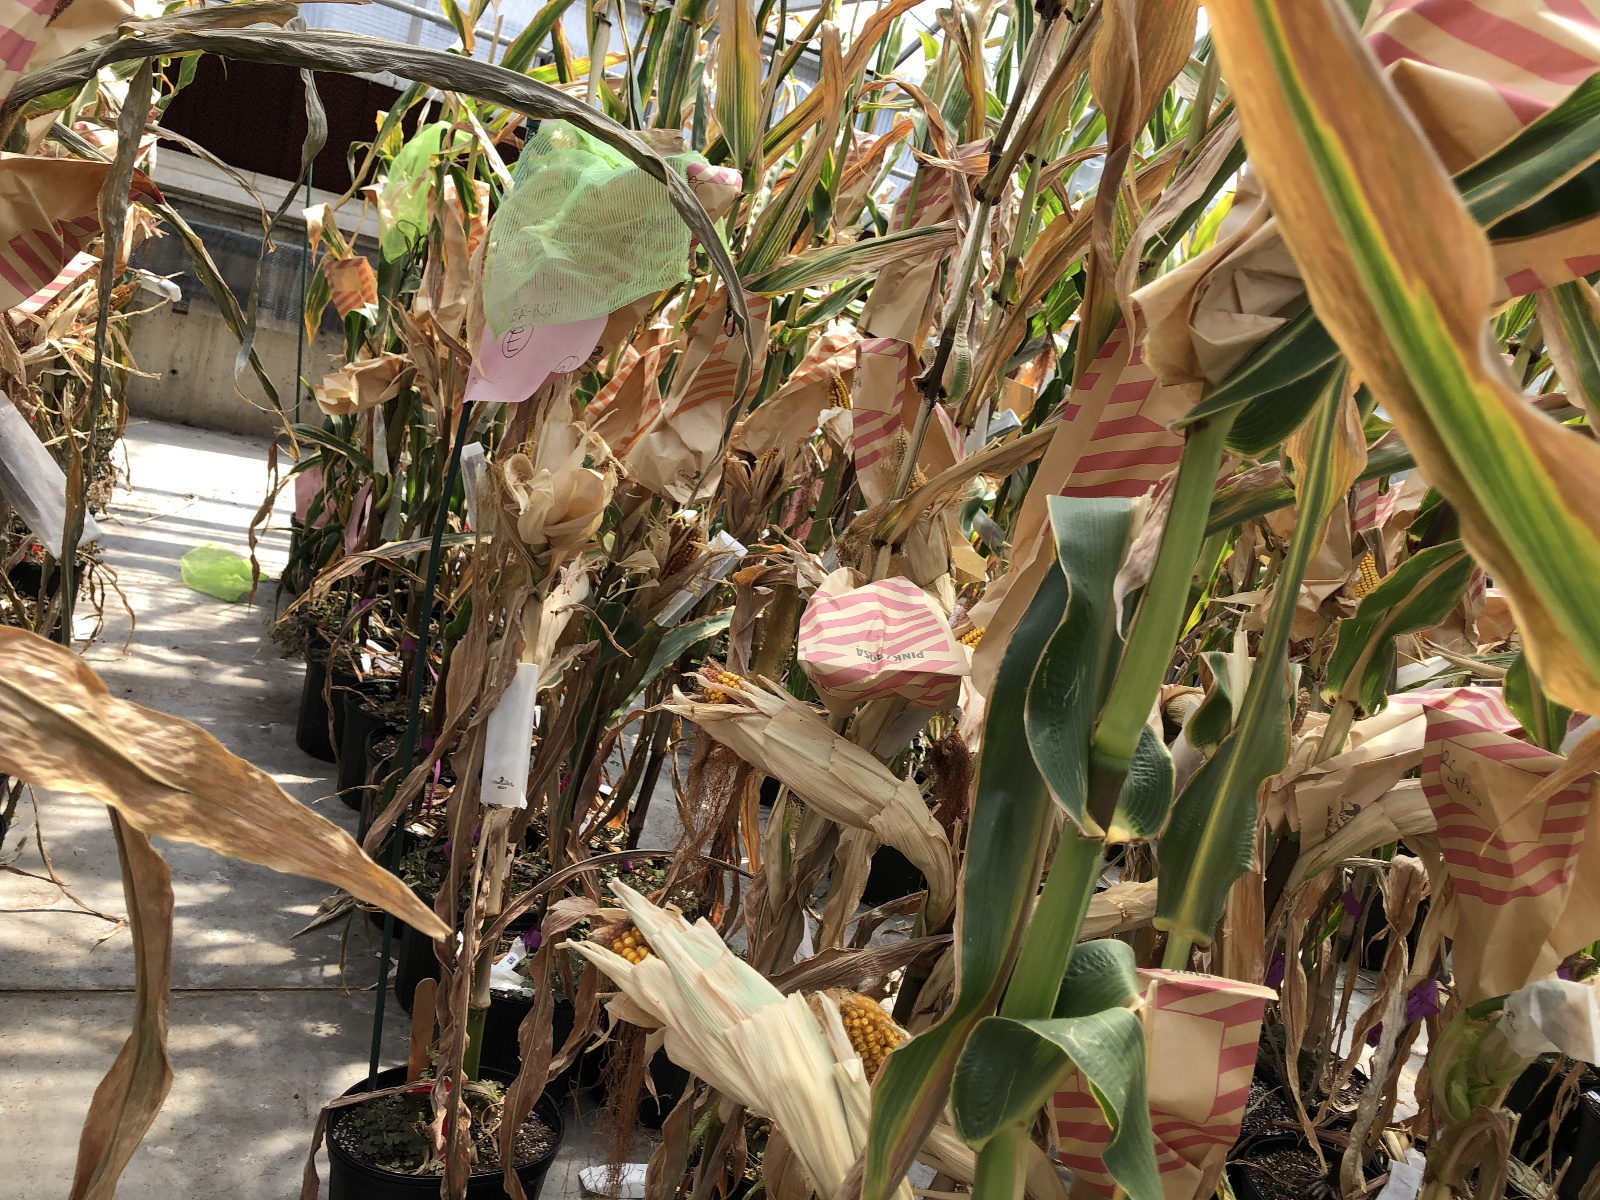ear: (574, 915, 816, 1151), (674, 652, 950, 852), (829, 976, 917, 1082), (888, 417, 936, 499), (648, 523, 711, 581), (819, 366, 867, 418), (1347, 539, 1382, 597), (106, 275, 151, 313), (35, 287, 69, 337)
